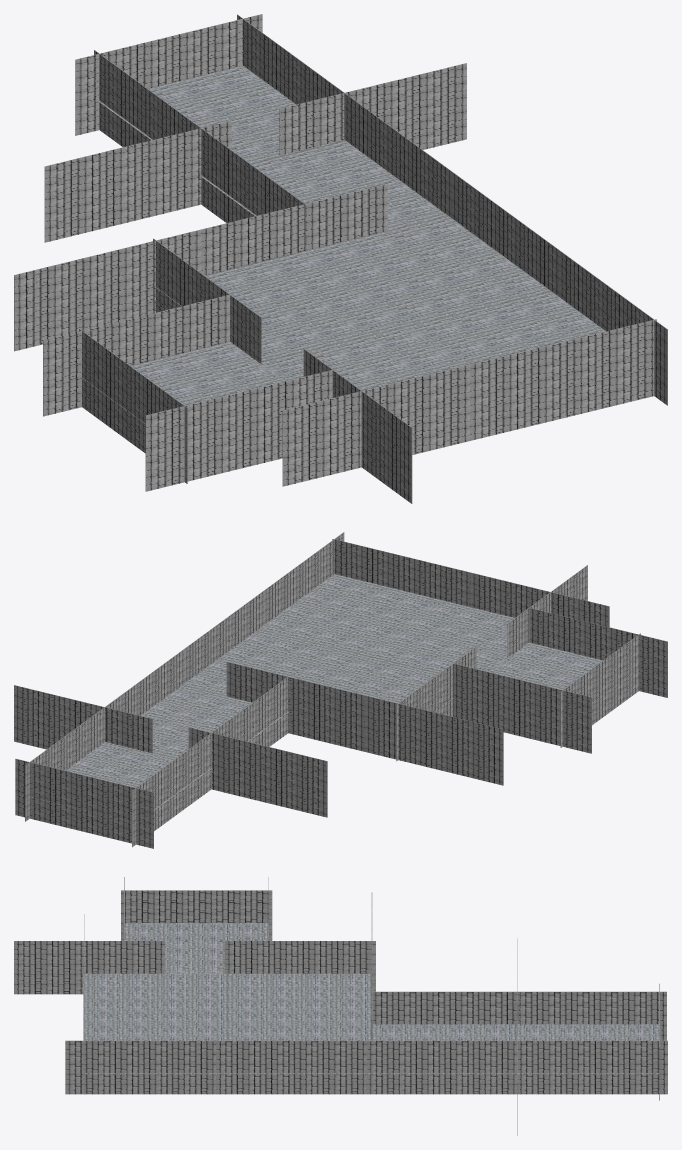
Rendered from background.fbx.
3 views of the same model, one above another, from view 1: azimuth 30°, elevation 25°; view 2: azimuth 150°, elevation 25°; view 3: azimuth 270°, elevation 25° (orthographic). The views are drawn at different scales.
Visible parts, largest first — view 1: Box011, Box020, Box006, Box023, Box021, Box017, Box012, Box005, Box024, Box009, Box013, Box003 (+13 smaller); view 2: Box013, Box017, Box024, Box003, Box006, Box014, Box009, Box011, Box005, Box023, Box020, Box007 (+13 smaller); view 3: Box004, Box010, Box015, Box016, Box014, Box012, Box019, Box002, Box025, Box018, Box008, Box022 (+4 smaller).
Boxes of the visible parts, bbox=[...] form: Box011: bbox=[304, 216, 550, 326]; Box020: bbox=[470, 319, 656, 440]; Box006: bbox=[44, 121, 231, 242]; Box023: bbox=[145, 370, 332, 491]; Box021: bbox=[282, 365, 469, 486]; Box017: bbox=[14, 229, 201, 351]; Box012: bbox=[156, 251, 406, 361]; Box005: bbox=[279, 63, 466, 155]; Box024: bbox=[43, 294, 229, 416]; Box009: bbox=[201, 184, 387, 275]; Box013: bbox=[406, 291, 654, 401]; Box003: bbox=[75, 14, 262, 135]; Box013: bbox=[259, 574, 441, 655]; Box017: bbox=[365, 695, 503, 785]; Box024: bbox=[453, 663, 591, 753]; Box003: bbox=[15, 758, 153, 848]; Box006: bbox=[188, 727, 327, 817]; Box014: bbox=[366, 600, 529, 673]; Box009: bbox=[226, 662, 365, 751]; Box011: bbox=[182, 629, 365, 695]; Box005: bbox=[14, 685, 152, 753]; Box023: bbox=[529, 608, 667, 697]; Box020: bbox=[332, 539, 470, 606]; Box007: bbox=[140, 685, 289, 757]; Box004: bbox=[516, 1040, 667, 1094]; Box010: bbox=[366, 1040, 517, 1094]; Box015: bbox=[216, 1040, 367, 1094]; Box016: bbox=[65, 1040, 216, 1094]; Box014: bbox=[83, 973, 227, 1023]; Box012: bbox=[227, 973, 371, 1023]; Box019: bbox=[14, 941, 165, 994]; Box002: bbox=[516, 991, 666, 1040]; Box025: bbox=[121, 890, 272, 940]; Box018: bbox=[224, 941, 375, 991]; Box008: bbox=[371, 991, 522, 1024]; Box022: bbox=[125, 923, 268, 973].
Bounding box in the file's own units: 5767 × 696 × 7752.
2 materials, 2 textured.
